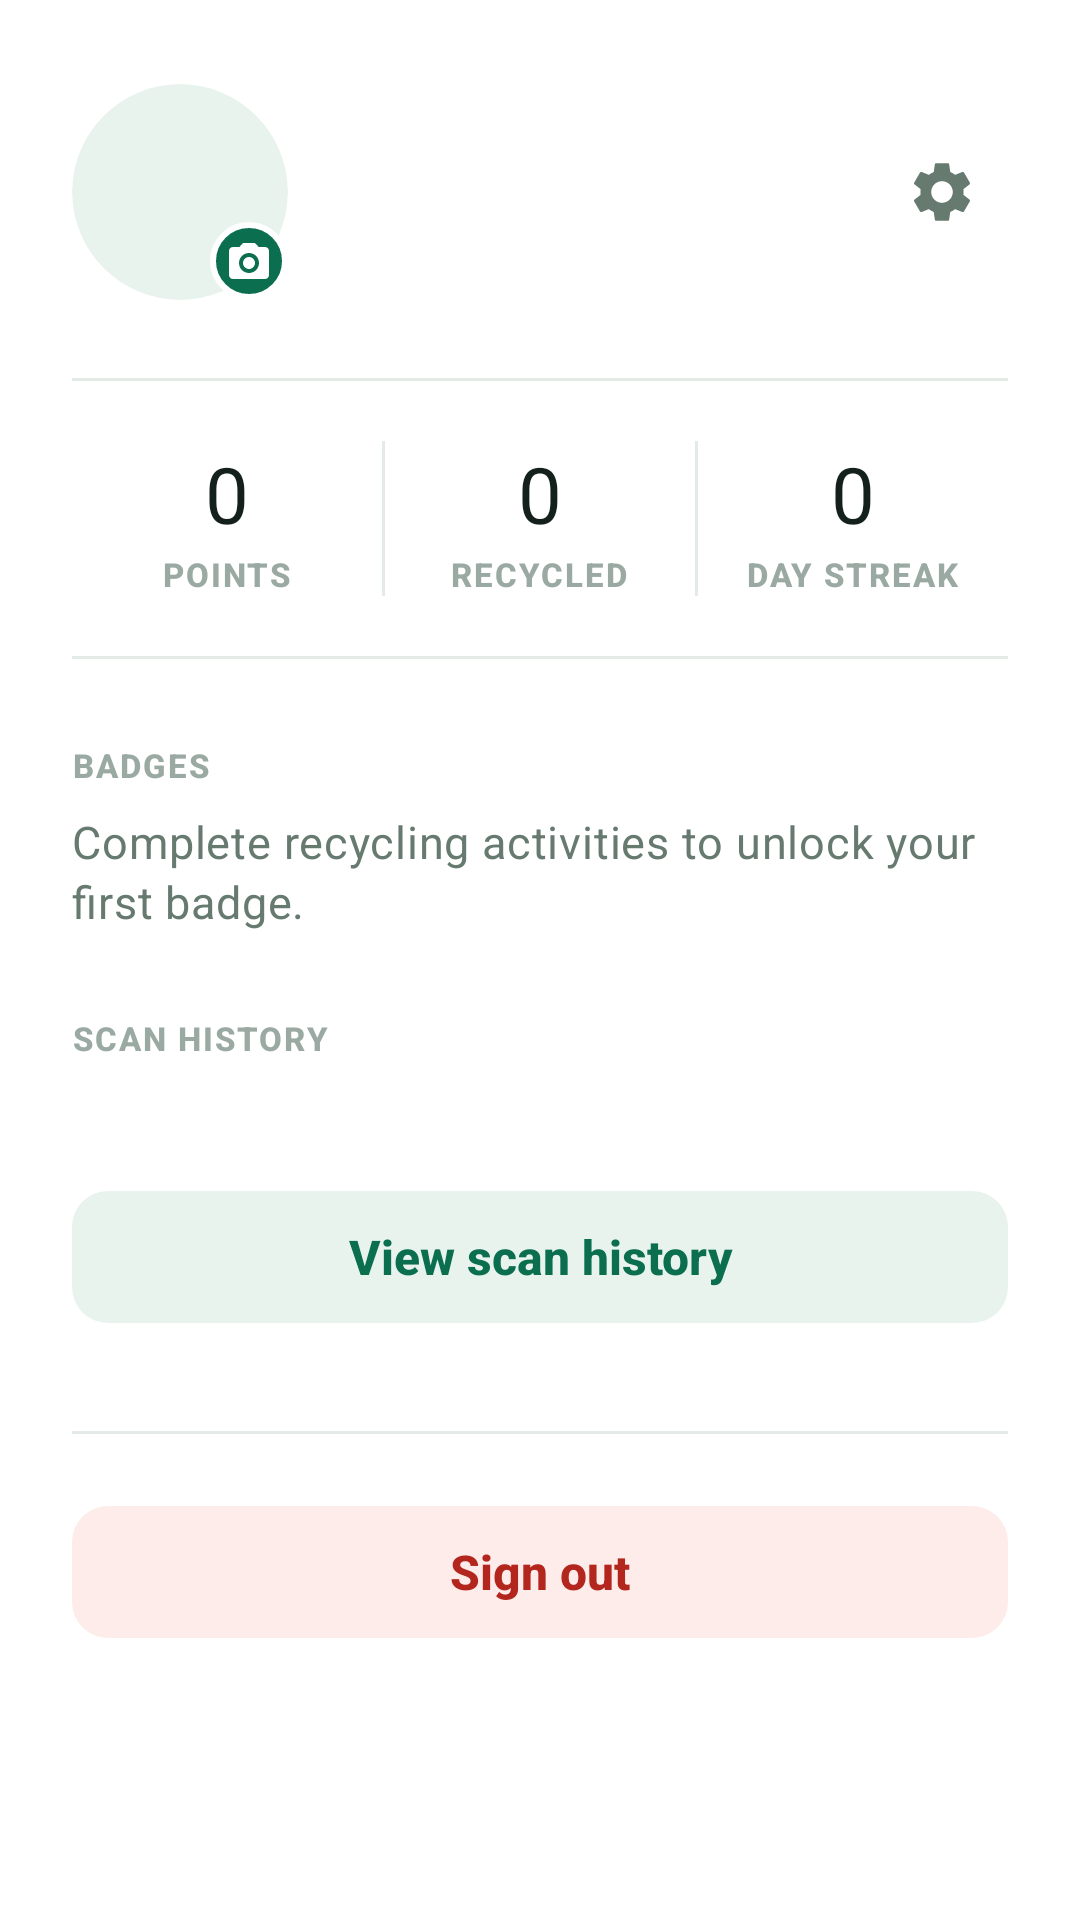

Icons on this 1080px x 1920px Android screen, each with its box as rect(x1, y1, x2, y2):
profile photo edit: rect(216, 228, 282, 294)
Settings: rect(914, 163, 970, 221)
